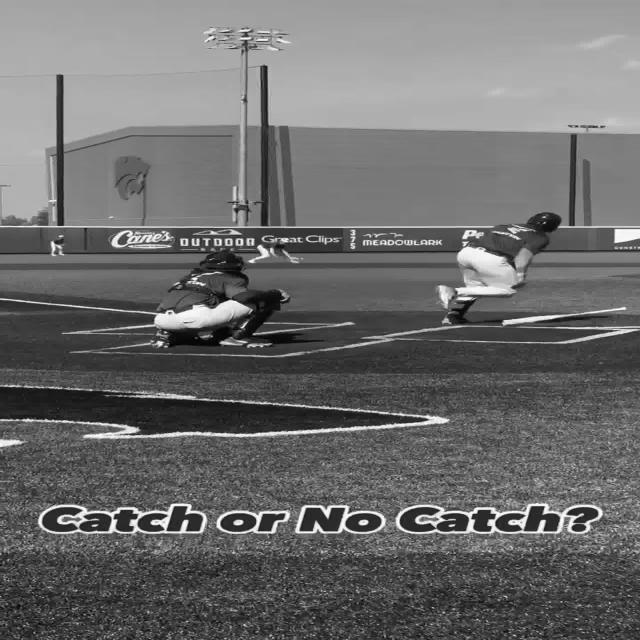bat: (502, 308, 627, 326)
shoe: (220, 338, 273, 348), (151, 330, 171, 349)
